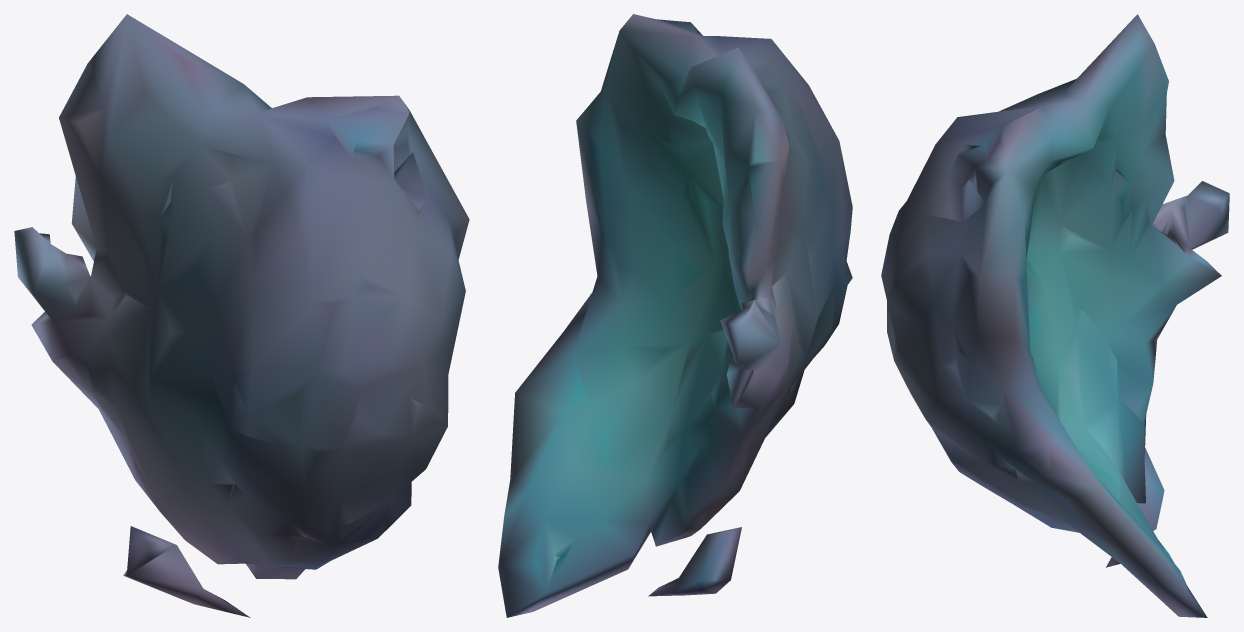
Rendered from nota_fa.glb.
3 renders of one model, left to right at view 1: azimuth 30°, elevation 25°; view 2: azimuth 150°, elevation 25°; view 3: azimuth 270°, elevation 25°, orthographic. The views are drawn at different scales.
Size of the model in its own units: 0.5384 by 0.9893 by 0.5964.
